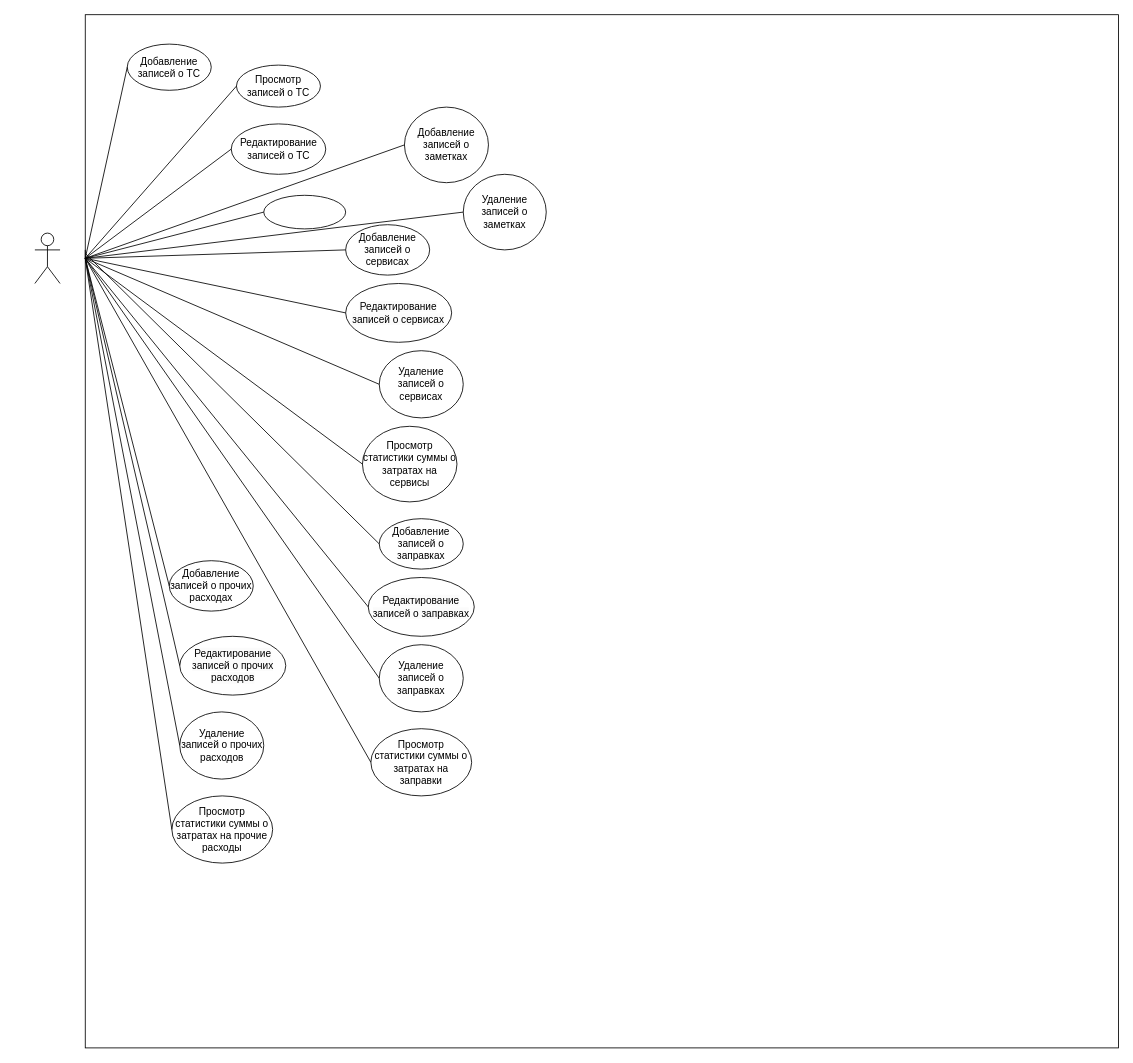
The diagram is 1133 pixels wide and 1063 high, and some of its shapes have lost their labels. Each missing label, with the centre of its shape:
"Пользователь" goes at [47,258].
"Удаление записей о ТС" goes at [304,211].
